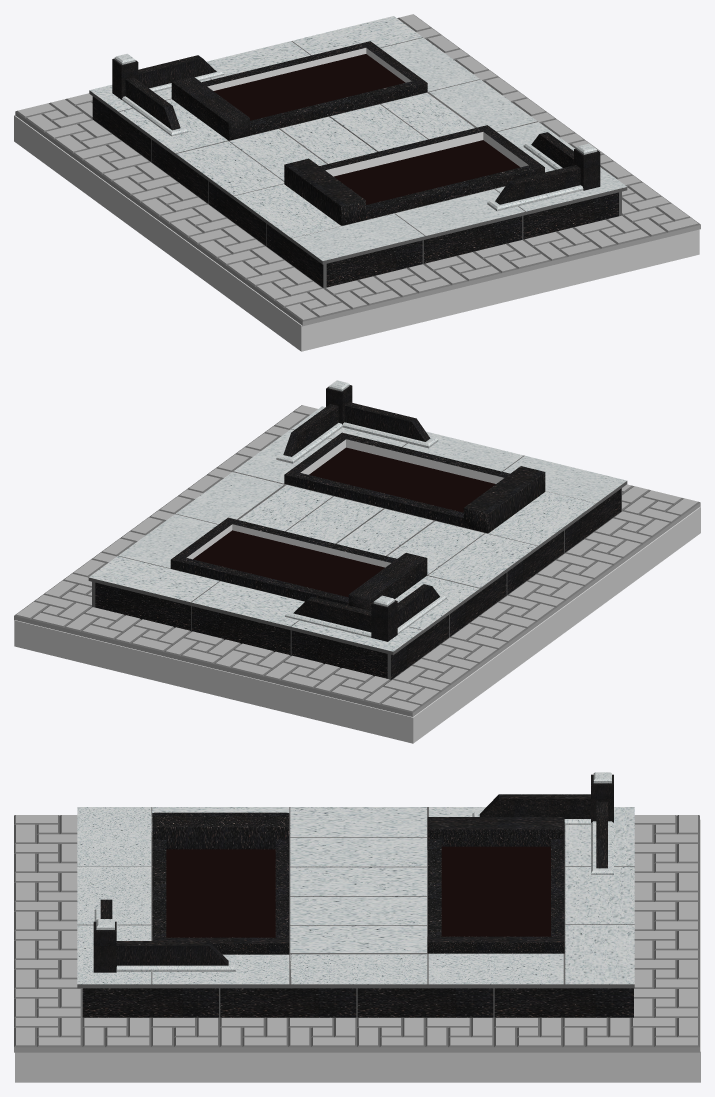
File: 240-180-15 мансур с угл сер [u_2_u].glb
The picture shows the model from 3 angles, top to bottom: view 1: azimuth 30°, elevation 25°; view 2: azimuth 150°, elevation 25°; view 3: azimuth 270°, elevation 25°; orthographic projection. The views are drawn at different scales.
Parts seen in each view (by area): view 1: plitka.005, Cube.175, Cube.183, Cube.184, Куб.237, Cube.185, Plane.013, Plane.012, Куб.242, Cube.186, Куб.004, Куб.243 (+13 smaller); view 2: plitka.005, Cube.175, Cube.183, Cube.186, Куб.232, Cube.185, Plane.013, Plane.012, Куб.242, Cube.184, Куб.004, Куб.236 (+13 smaller); view 3: plitka.005, Cube.183, Cube.175, Куб.241, Cube.185, Cube.184, Cube.186, Plane.013, Plane.012, Куб.004, Куб.243, Cube.177 (+12 smaller).
Part boxes in pixels (x1,y1,x2,y2): plitka.005: (15,14,700,326); Cube.175: (14,115,699,351); Cube.183: (117,92,474,241); Cube.184: (291,167,627,264); Куб.237: (323,192,618,287); Cube.185: (380,37,574,172); Plane.013: (213,54,405,120); Plane.012: (334,140,520,204); Куб.242: (92,96,322,287); Cube.186: (89,16,422,113); Куб.004: (284,158,365,225); Куб.243: (171,76,249,140); plitka.005: (14,405,700,716); Cube.175: (14,507,700,743); Cube.183: (239,484,596,634); Cube.186: (88,555,422,655); Куб.232: (95,582,390,679); Cube.185: (118,429,332,568); Plane.013: (193,530,384,597); Plane.012: (309,447,495,512); Куб.242: (390,489,621,679); Cube.184: (291,406,627,506); Куб.004: (463,466,545,533); Куб.236: (294,473,463,527); plitka.005: (14,815,699,1052); Cube.183: (151,807,485,953); Cube.175: (15,819,700,1082); Куб.241: (82,988,633,1017); Cube.185: (151,953,563,988); Cube.184: (77,807,152,988); Cube.186: (563,807,634,988); Plane.013: (441,846,550,936); Plane.012: (166,849,275,937); Куб.004: (152,812,289,849); Куб.243: (427,817,564,849); Cube.177: (116,941,228,966).
Bounding box in the file's own units: 2.41 × 0.564 × 3.
Materials: 9 (4 with a texture image).
